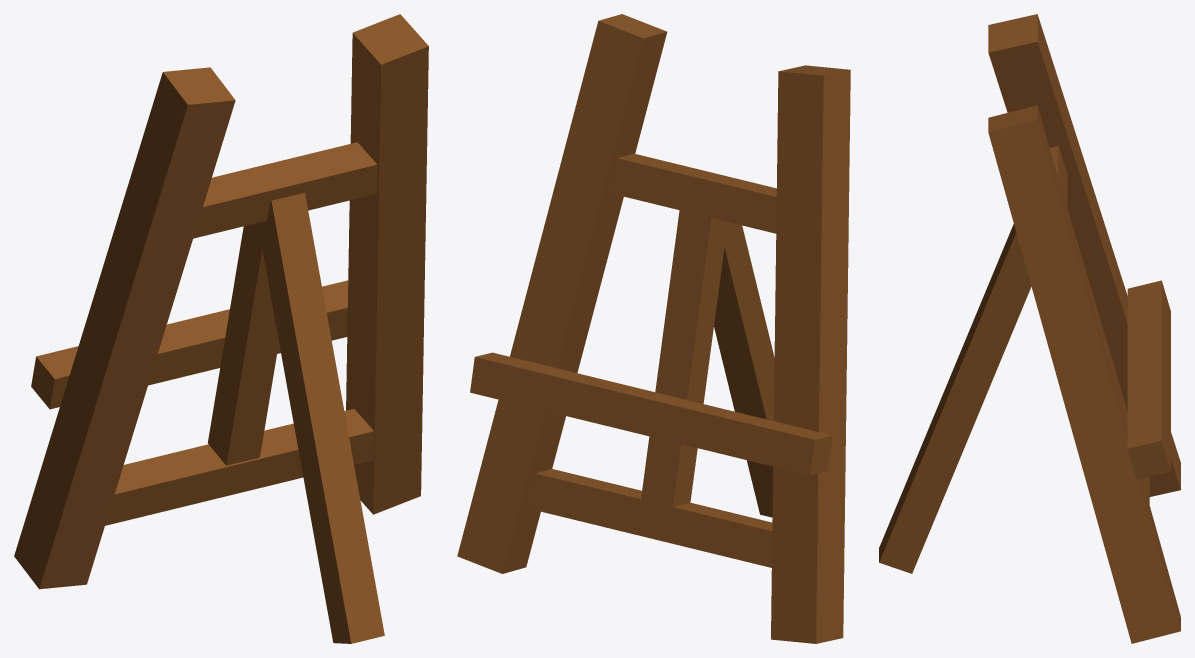
File: easel.glb
3 renders of one model, left to right at view 1: azimuth 30°, elevation 25°; view 2: azimuth 150°, elevation 25°; view 3: azimuth 270°, elevation 25°, orthographic. The views are drawn at different scales.
Visible parts, largest first — view 1: Cube, Cube.001, Cube.002, Cube.004, Cube.005, Cube.003, Cube.006; view 2: Cube, Cube.001, Cube.006, Cube.004, Cube.005, Cube.002, Cube.003; view 3: Cube.001, Cube, Cube.002, Cube.006, Cube.004, Cube.003.
Boxes of the visible parts, <box> form: Cube: <box>14,67,235,589</box>; Cube.001: <box>346,14,428,514</box>; Cube.002: <box>258,192,384,643</box>; Cube.004: <box>208,222,278,465</box>; Cube.005: <box>105,409,374,525</box>; Cube.003: <box>193,142,377,238</box>; Cube.006: <box>31,280,348,409</box>; Cube: <box>771,65,850,643</box>; Cube.001: <box>457,14,667,573</box>; Cube.006: <box>470,352,832,475</box>; Cube.004: <box>641,210,724,506</box>; Cube.005: <box>526,469,772,567</box>; Cube.002: <box>714,219,774,517</box>; Cube.003: <box>608,153,776,233</box>; Cube.001: <box>988,105,1180,643</box>; Cube: <box>988,14,1180,496</box>; Cube.002: <box>879,224,1031,573</box>; Cube.006: <box>1127,280,1170,479</box>; Cube.004: <box>1067,210,1127,425</box>; Cube.003: <box>1049,146,1067,211</box>.
Bounding box in the file's own units: 2.92 × 3.98 × 2.18.
